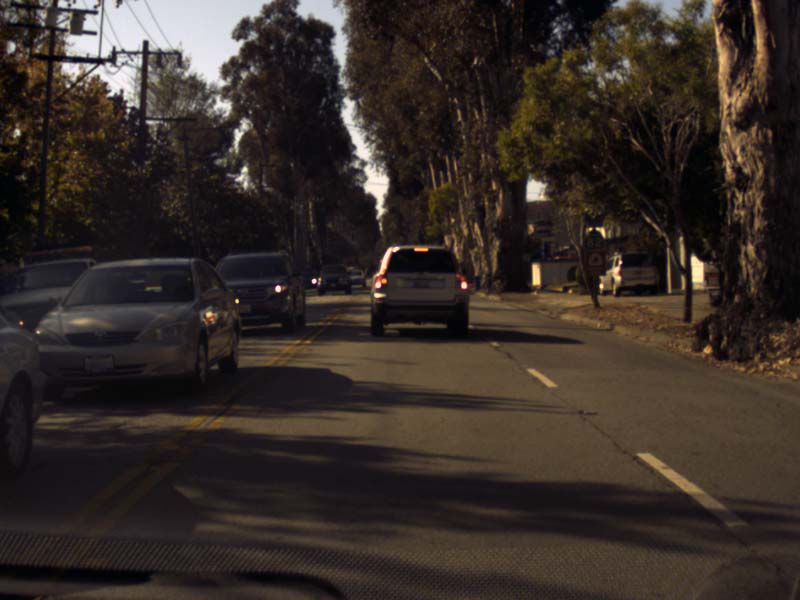Green: (386, 240, 389, 246)
